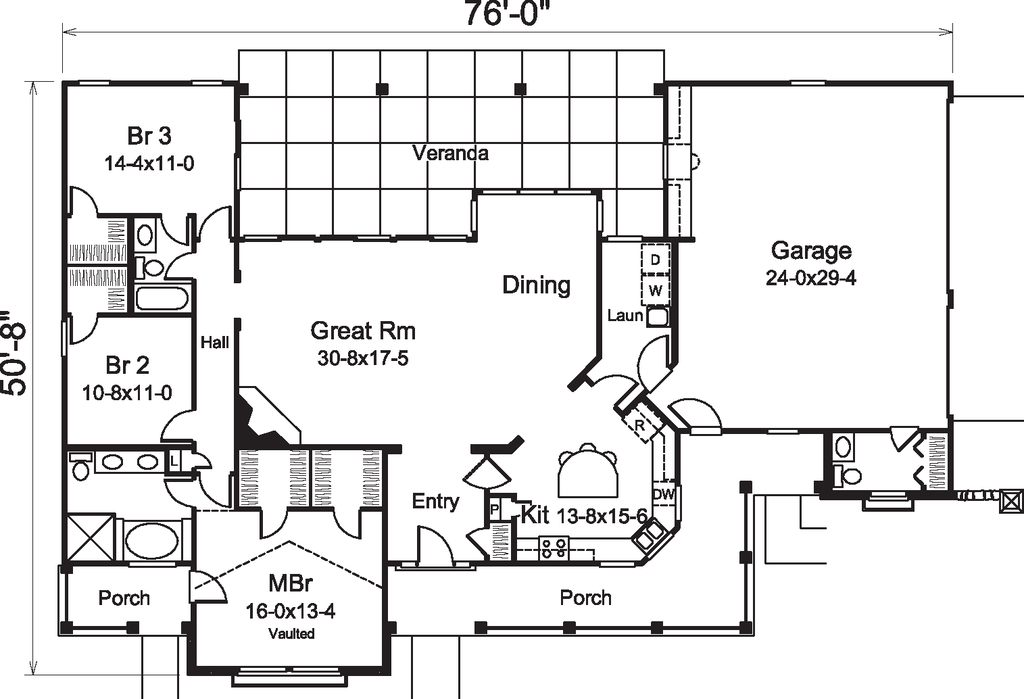coffee_table: (67, 515, 117, 562)
door: (417, 527, 460, 565), (593, 373, 638, 409), (196, 207, 235, 240), (191, 570, 225, 603), (160, 213, 195, 244), (330, 505, 360, 538), (163, 477, 194, 507), (164, 408, 196, 437), (202, 477, 228, 508), (74, 314, 96, 347), (467, 527, 489, 560), (165, 249, 190, 278), (70, 187, 94, 216), (263, 509, 288, 536), (196, 451, 207, 466)
large_sink: (132, 252, 165, 282), (833, 461, 864, 492), (66, 453, 92, 486)
small_sink: (129, 217, 157, 257), (831, 433, 855, 462)
tub: (130, 284, 194, 316)
twin_sink: (96, 452, 169, 476)
